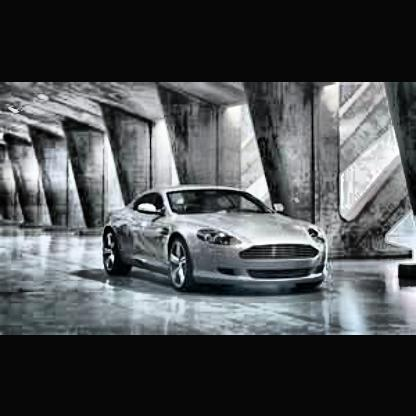Aston Martin V8 Vantage Coupe 2012: (104, 184, 332, 301)
